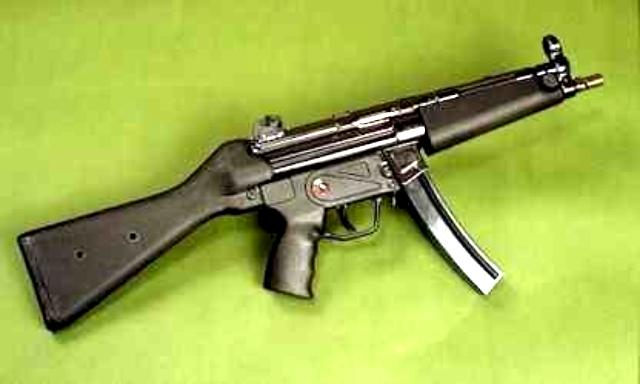rifle: (12, 31, 628, 361)
